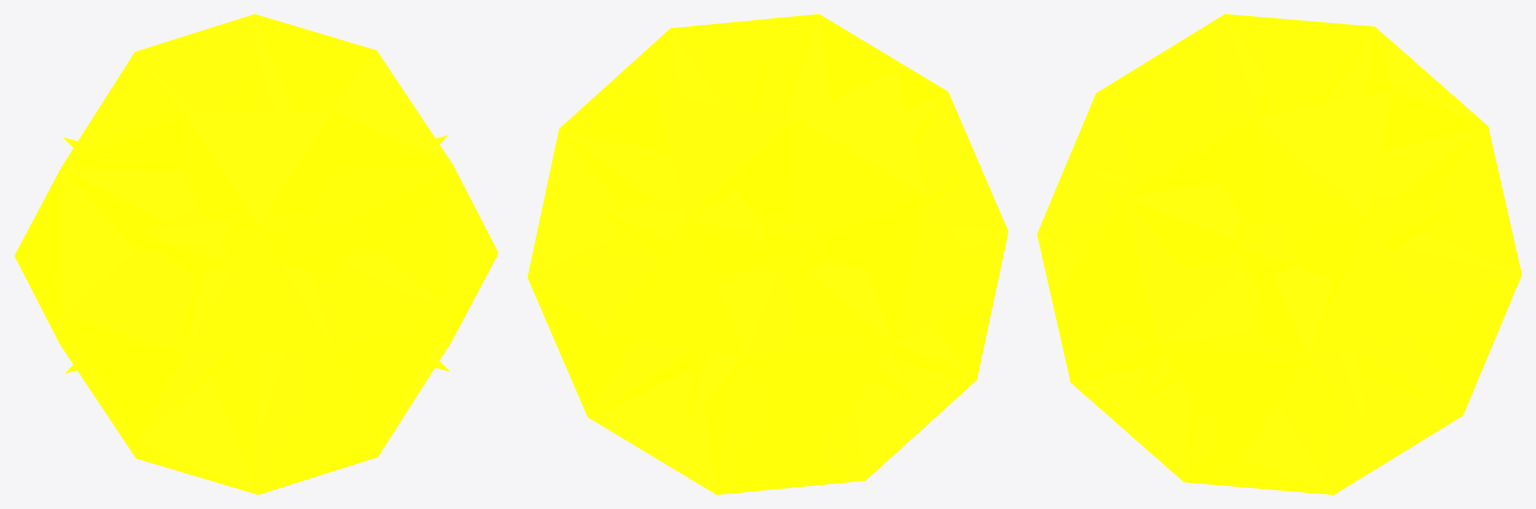
File: seeddrop3.dae
3 renders of one model, left to right at view 1: azimuth 30°, elevation 25°; view 2: azimuth 150°, elevation 25°; view 3: azimuth 270°, elevation 25°, orthographic. The views are drawn at different scales.
Visible parts, largest first — view 1: Icosphere; view 2: Icosphere; view 3: Icosphere.
Boxes of the visible parts, box(x1,y1,x2,y2) form: Icosphere: box(14, 14, 498, 494); Icosphere: box(527, 14, 1008, 494); Icosphere: box(1037, 14, 1521, 494).
Bounding box in the file's own units: 0.2199 × 0.2073 × 0.2172.
